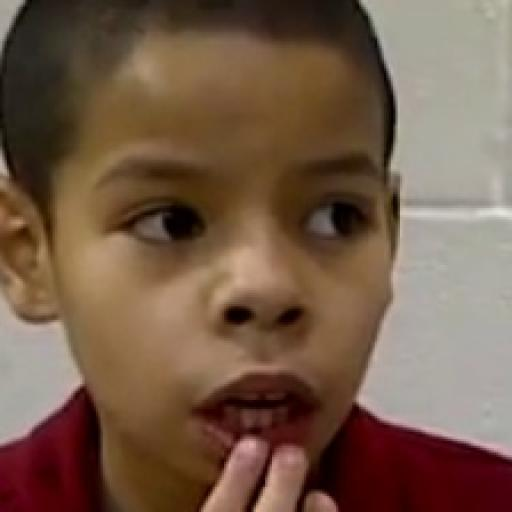Autism: (7, 58, 512, 512)
